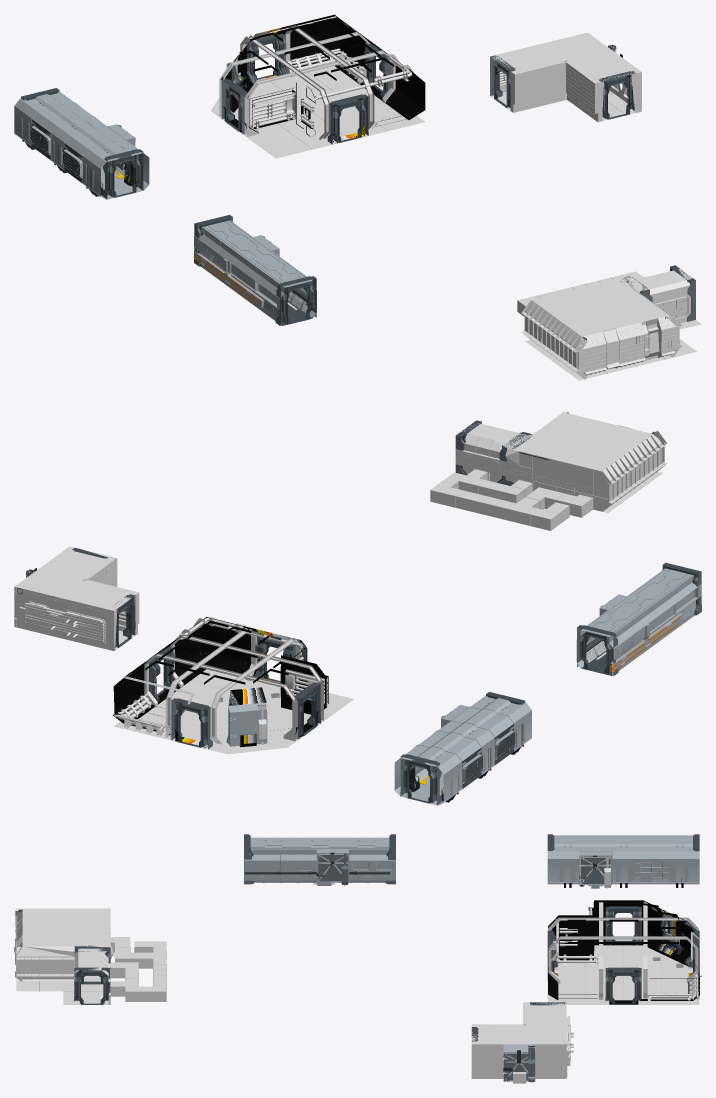
File: TestRooms.fbx
3 renders of one model, top to bottom at view 1: azimuth 30°, elevation 25°; view 2: azimuth 150°, elevation 25°; view 3: azimuth 270°, elevation 25°, orthographic. The views are drawn at different scales.
Parts seen in each view (by area): view 1: Plane.007, Main, MainTonel, Plane.001, MainTonel.007, MainRoom, ROOMx4_1, ROOMx2L_1, ROOMx2_1, ROOMx2_2, Main.001, Cube.033 (+3 smaller); view 2: Plane.007, Main, MainTonel, MainRoom, MainTonel.007, Cube.079, Plane.001, ROOMx4_1, ROOMx2_1, ROOMx2_2, OptionGenerator.002, ROOMx2L_1 (+2 smaller); view 3: MainTonel, Plane.007, MainTonel.007, Plane.001, Main, MainRoom, Cube.079, ROOMx4_1, Main.001, OptionAIDKIT, OptionAIDKIT.005, OptionAIDKIT.009 (+5 smaller).
Part boxes in pixels (bbox=[...]): Plane.007: bbox=[525, 269, 692, 372]; Main: bbox=[490, 32, 641, 122]; MainTonel: bbox=[14, 92, 149, 199]; Plane.001: bbox=[211, 66, 424, 158]; MainTonel.007: bbox=[194, 220, 316, 325]; MainRoom: bbox=[221, 14, 425, 143]; ROOMx4_1: bbox=[221, 33, 390, 144]; ROOMx2L_1: bbox=[490, 55, 635, 119]; ROOMx2_1: bbox=[194, 215, 316, 325]; ROOMx2_2: bbox=[21, 88, 143, 198]; Main.001: bbox=[525, 320, 701, 380]; Cube.033: bbox=[274, 42, 395, 103]; Plane.007: bbox=[455, 412, 662, 511]; Main: bbox=[14, 546, 139, 650]; MainTonel: bbox=[394, 695, 531, 805]; MainRoom: bbox=[113, 617, 328, 748]; MainTonel.007: bbox=[576, 568, 701, 675]; Cube.079: bbox=[430, 469, 592, 530]; Plane.001: bbox=[113, 669, 353, 754]; ROOMx4_1: bbox=[149, 637, 320, 749]; ROOMx2_1: bbox=[577, 562, 701, 676]; ROOMx2_2: bbox=[400, 692, 525, 805]; OptionGenerator.002: bbox=[228, 703, 267, 746]; ROOMx2L_1: bbox=[72, 547, 135, 650]; MainTonel: bbox=[547, 835, 699, 884]; Plane.007: bbox=[16, 909, 113, 1004]; MainTonel.007: bbox=[244, 837, 395, 885]; Plane.001: bbox=[547, 945, 699, 1004]; Main: bbox=[471, 1002, 570, 1078]; MainRoom: bbox=[548, 900, 699, 1004]; Cube.079: bbox=[110, 937, 166, 1001]; ROOMx4_1: bbox=[547, 906, 699, 1004]; Main.001: bbox=[16, 976, 108, 1004]; OptionAIDKIT: bbox=[316, 849, 349, 882]; OptionAIDKIT.005: bbox=[579, 851, 612, 884]; OptionAIDKIT.009: bbox=[503, 1044, 535, 1081].
Size of the model in its own units: 34.07 by 3.63 by 45.31.
Materials: 2 (1 with a texture image).
